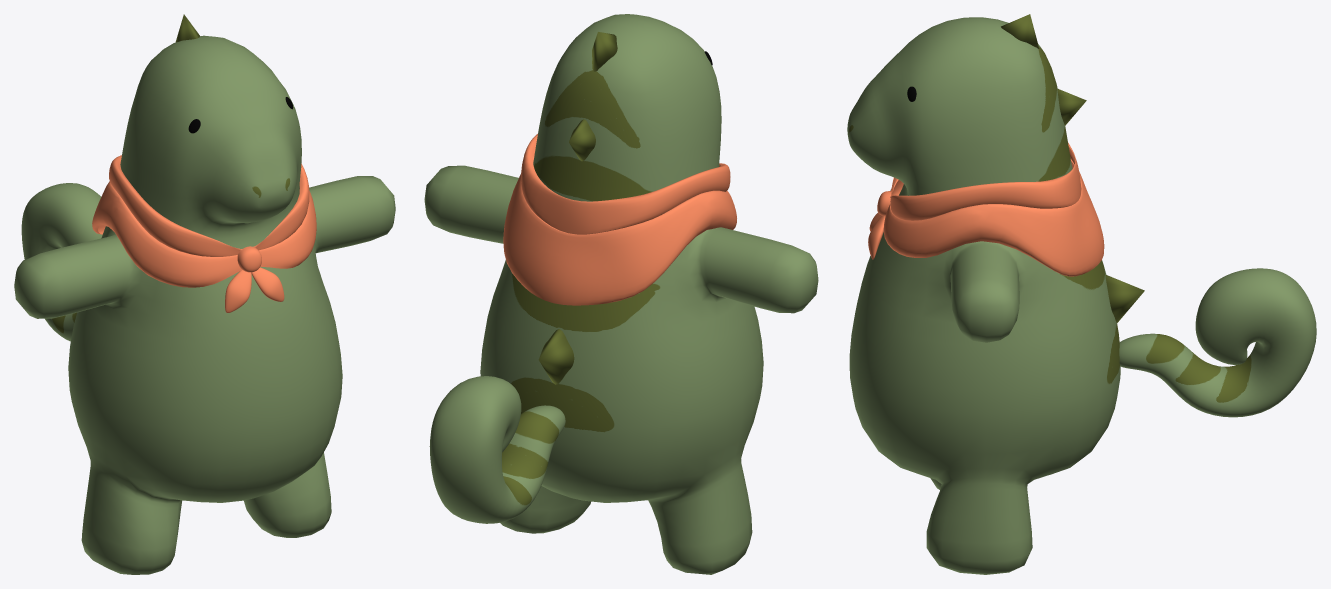
File: Chameleon.fbx
3 renders of one model, left to right at view 1: azimuth 30°, elevation 25°; view 2: azimuth 150°, elevation 25°; view 3: azimuth 270°, elevation 25°, orthographic. The views are drawn at different scales.
Visible parts, largest first — view 1: Corpo, Cube.002, Cube.001; view 2: Corpo, Cube.002, Cube.001, Cone, Cone.001, Cone.002; view 3: Corpo, Cube.001, Cube.002, Cone, Cone.002.
Boxes of the visible parts, bbox=[...] form: Corpo: bbox=[14, 35, 395, 574]; Cube.002: bbox=[92, 155, 316, 312]; Cube.001: bbox=[21, 183, 102, 341]; Corpo: bbox=[424, 14, 818, 574]; Cube.002: bbox=[503, 134, 736, 305]; Cube.001: bbox=[429, 376, 565, 523]; Cone: bbox=[538, 329, 574, 384]; Cone.001: bbox=[569, 119, 595, 161]; Cone.002: bbox=[592, 32, 617, 71]; Corpo: bbox=[847, 17, 1120, 574]; Cube.001: bbox=[1119, 268, 1316, 417]; Cube.002: bbox=[868, 142, 1104, 276]; Cone: bbox=[1105, 274, 1144, 322]; Cone.002: bbox=[1001, 14, 1039, 48].
Bounding box in the file's own units: 140 × 187 × 154.
Materials: 5 (2 with a texture image).
